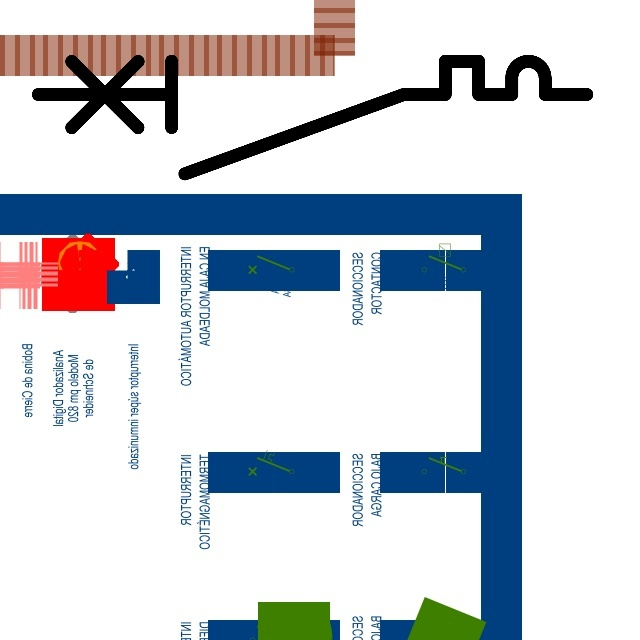interruptor_termomagnetico: (24, 47, 601, 188)
